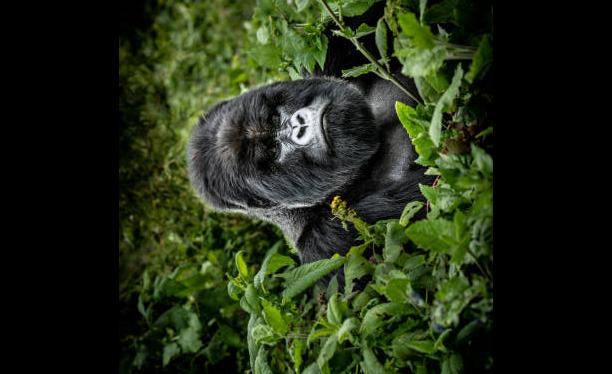goriile_montagne: (160, 0, 425, 291)
